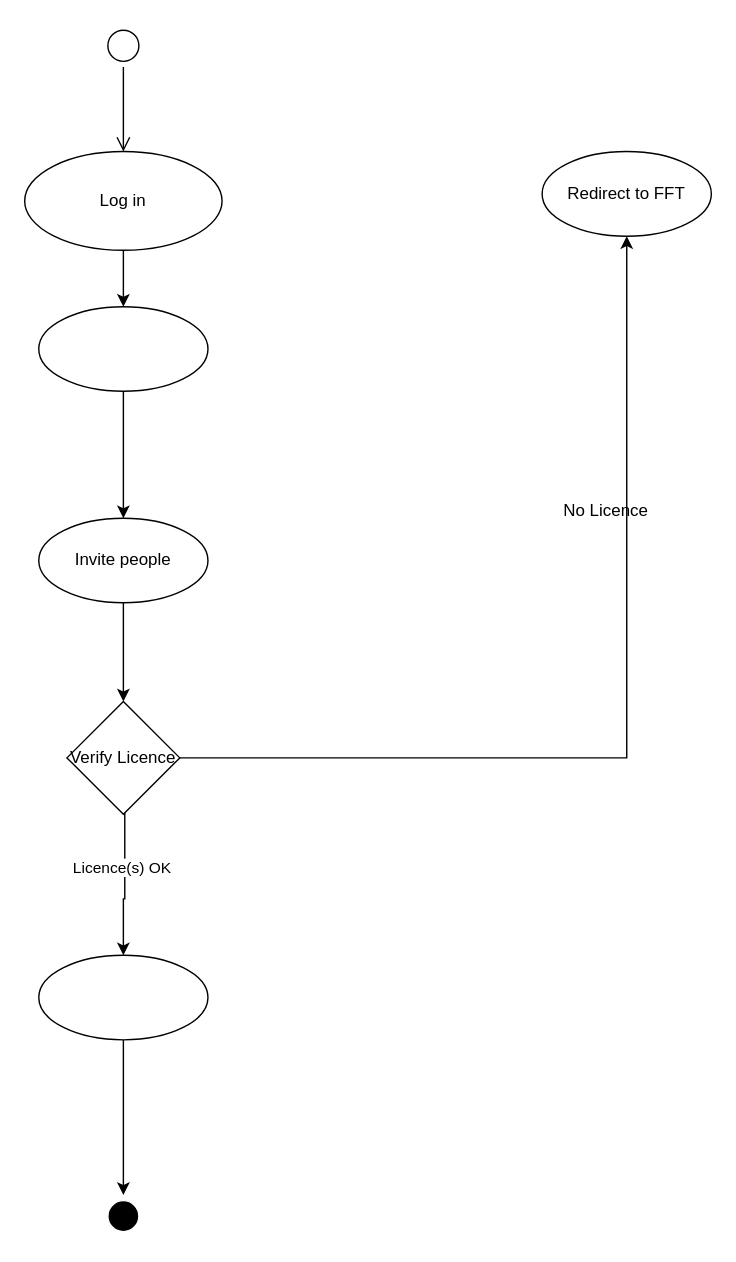
Some shapes in this 736 by 1262 pixel diagram are drawn without their labels. The shapes that lost their labels are listed below. From the top down, each one's centre as x and y in pixels, then its label:
(122,348): Select court
(122,997): Confirm Booking
